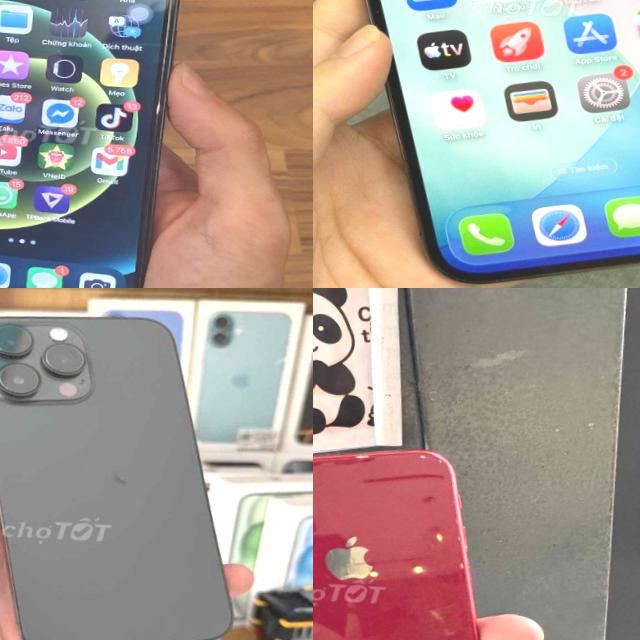gen_12_13: (313, 0, 640, 288), (0, 0, 191, 288)
gen_14: (0, 300, 263, 640)
gen_7_8: (313, 430, 537, 640)
